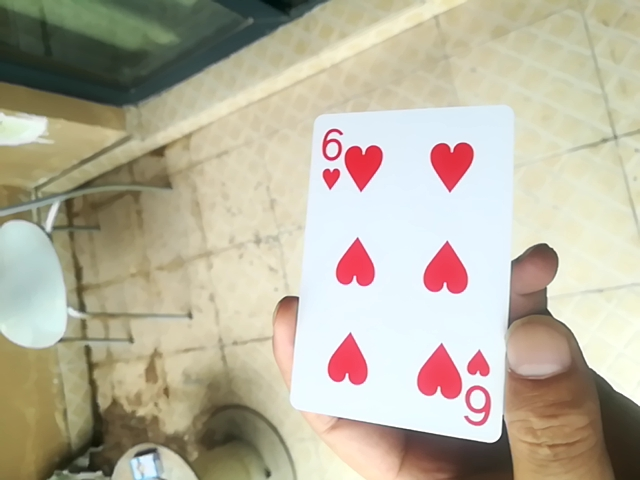hx 6: (291, 108, 521, 443)
